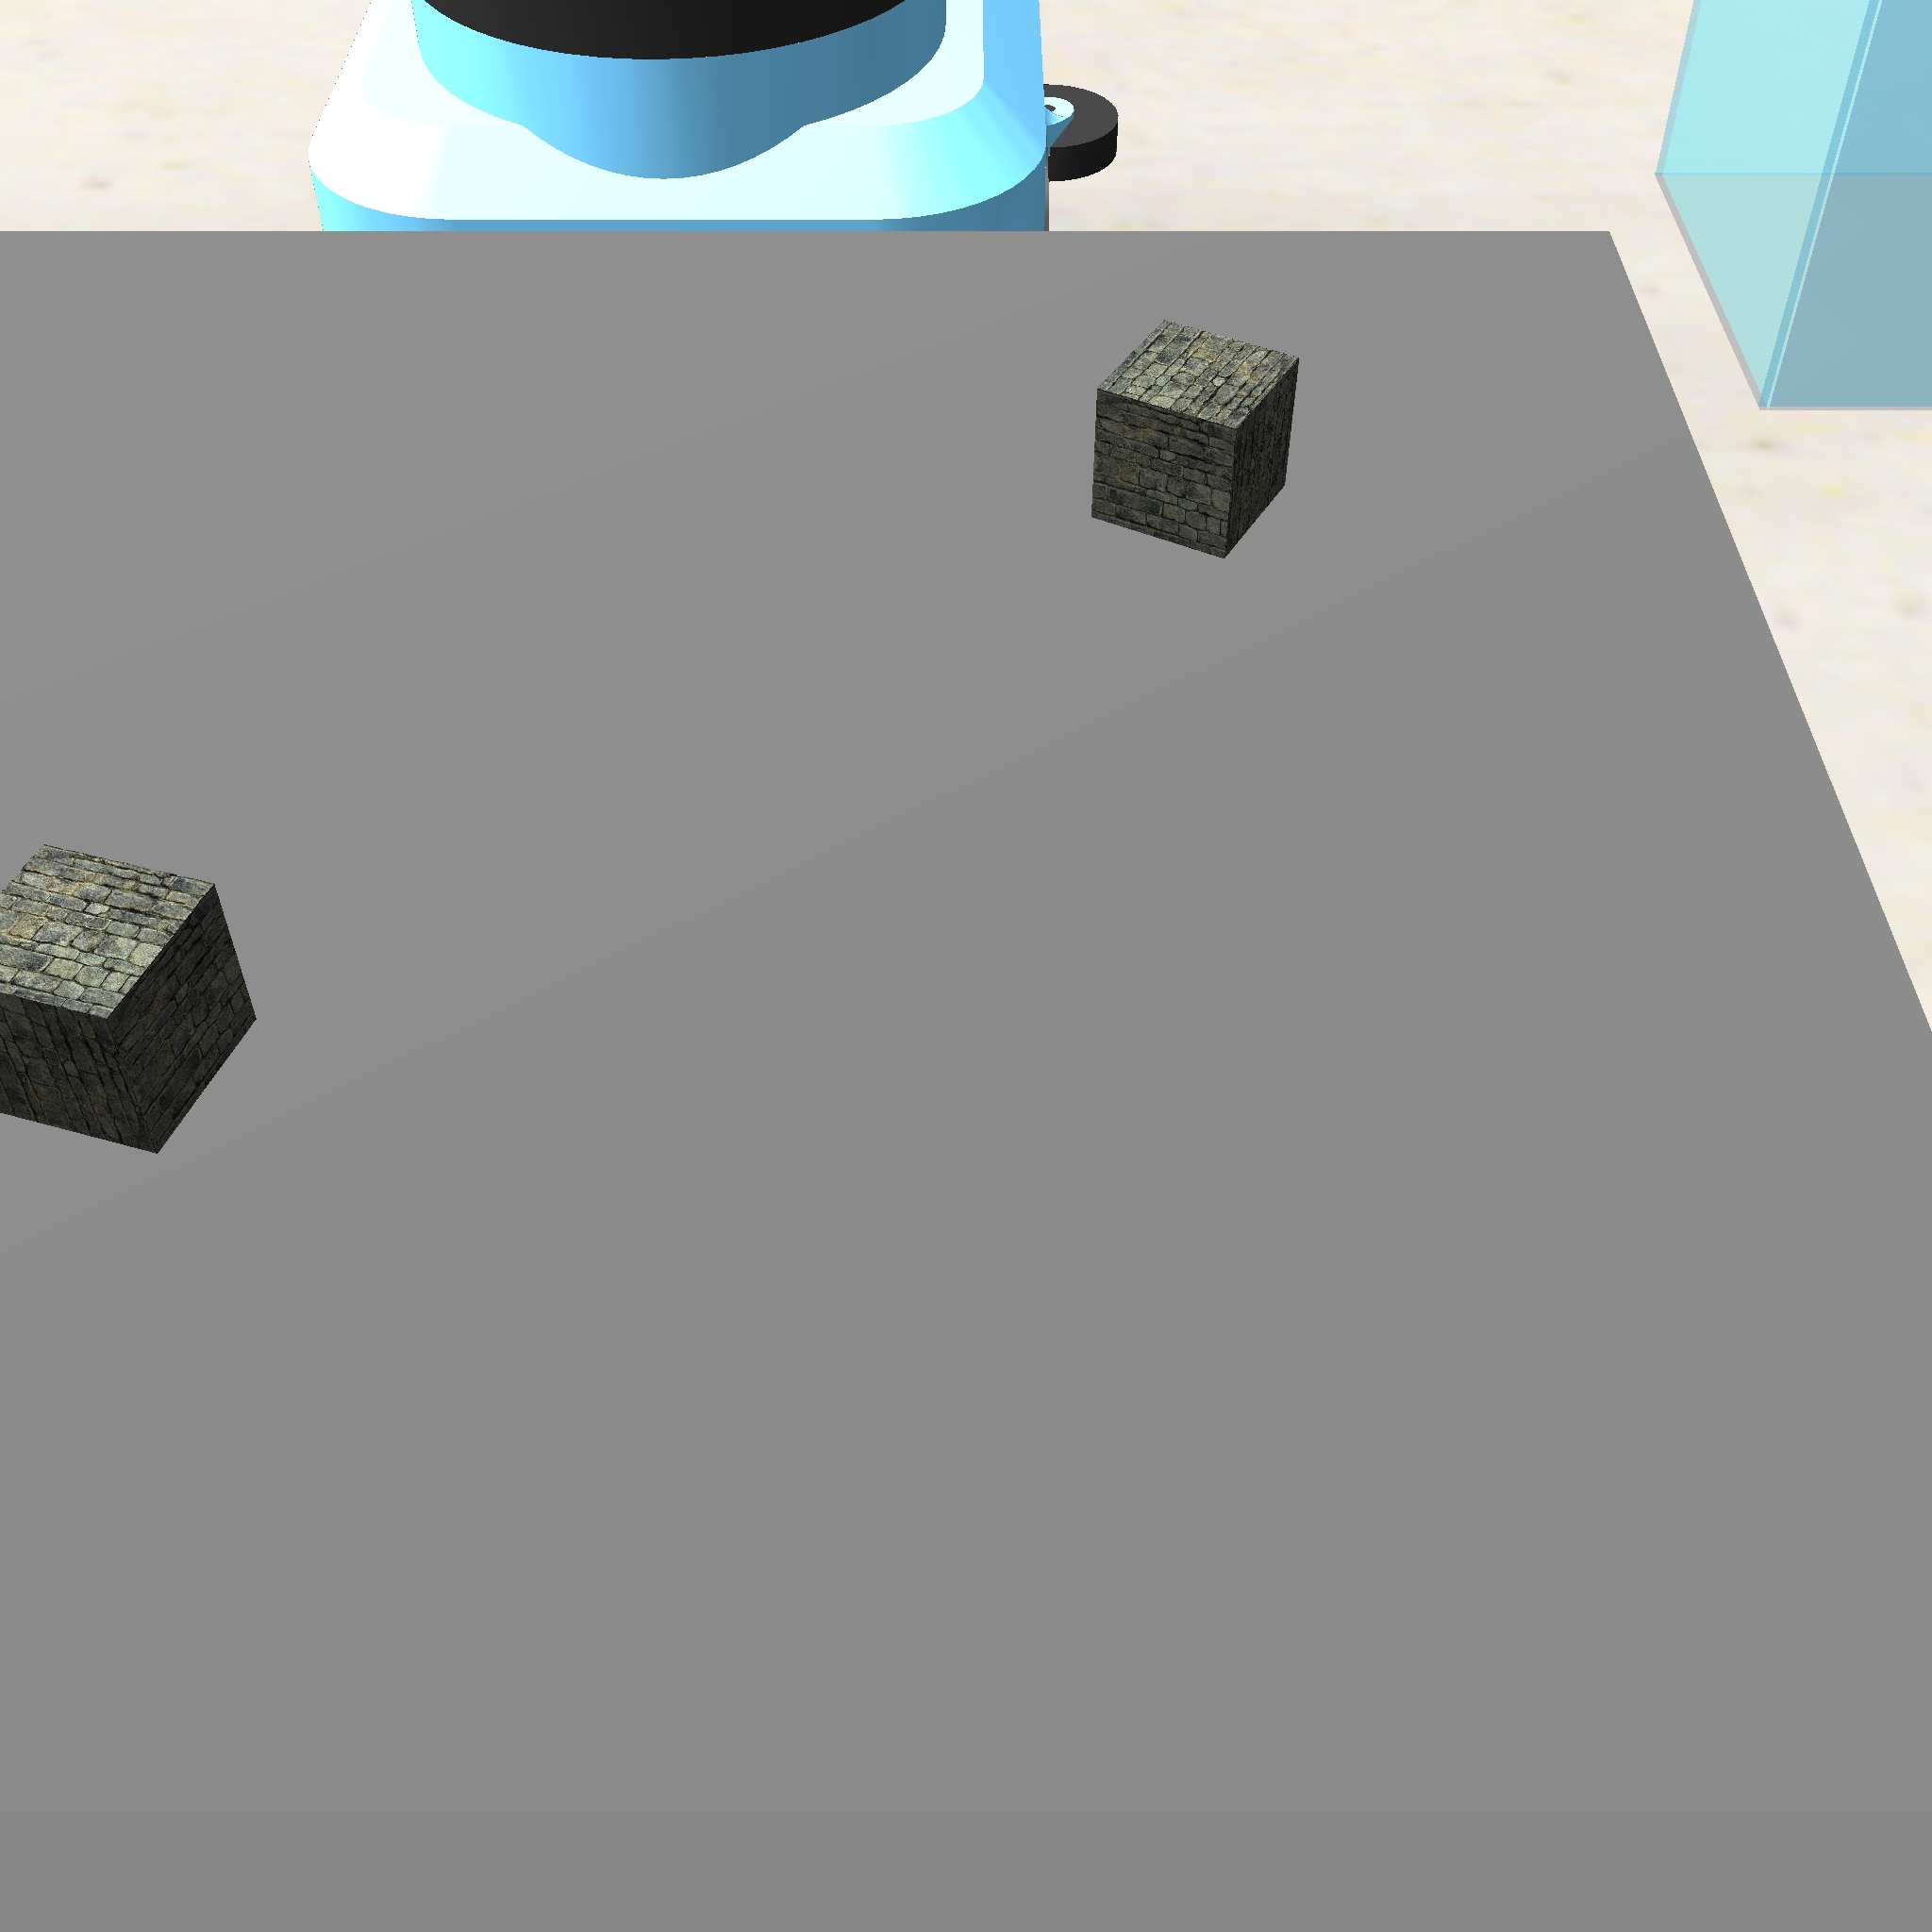cube: (0, 832, 272, 1166), (1085, 311, 1304, 570)
